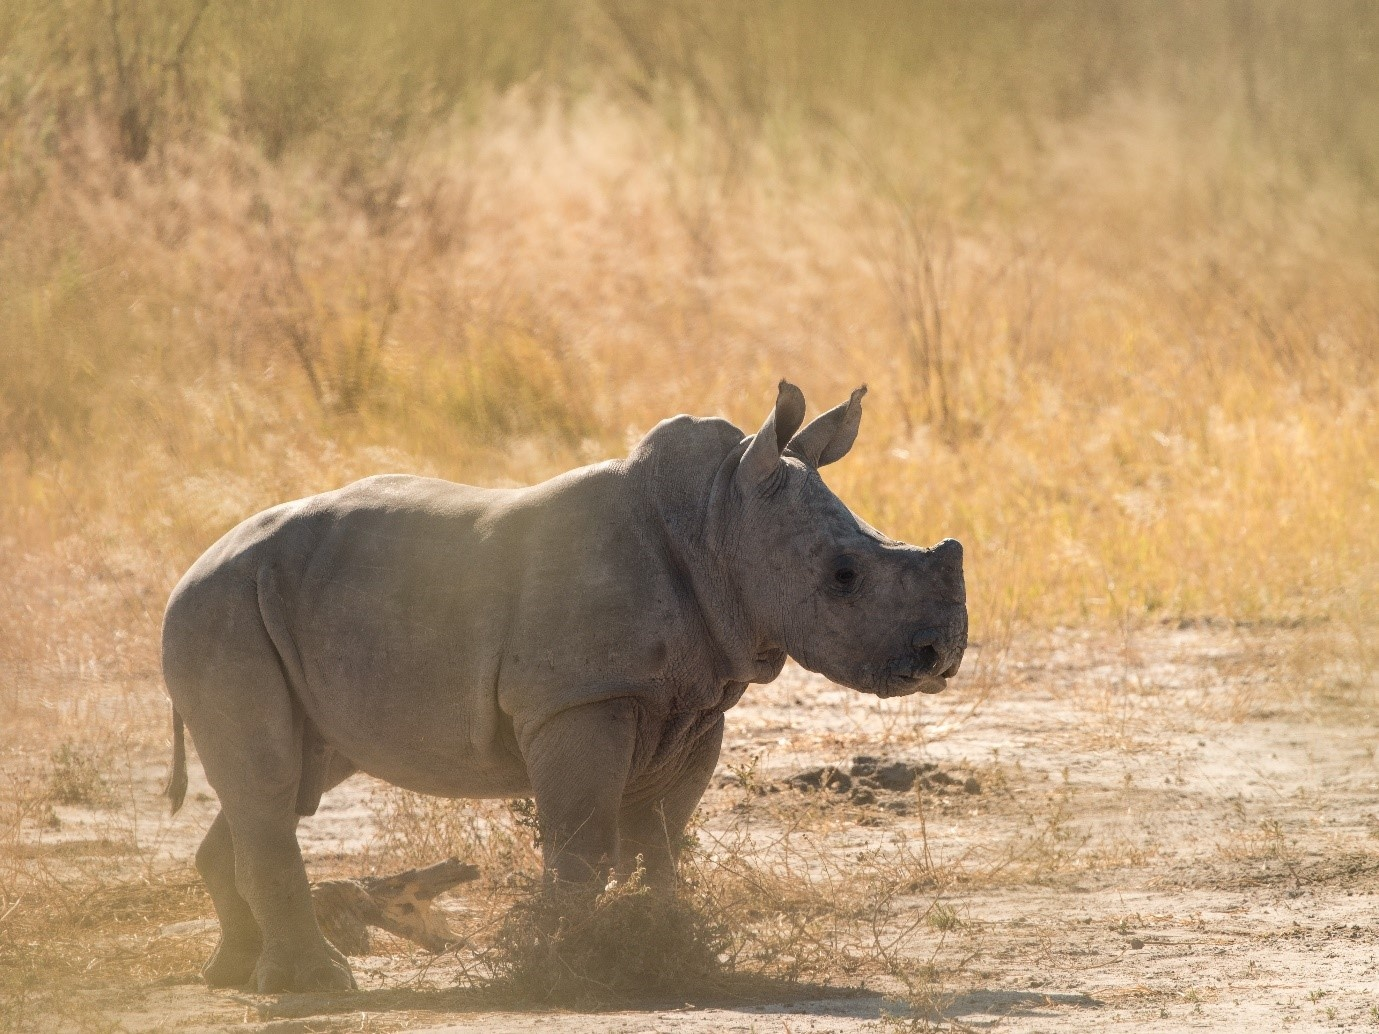rhino: (152, 375, 967, 975)
